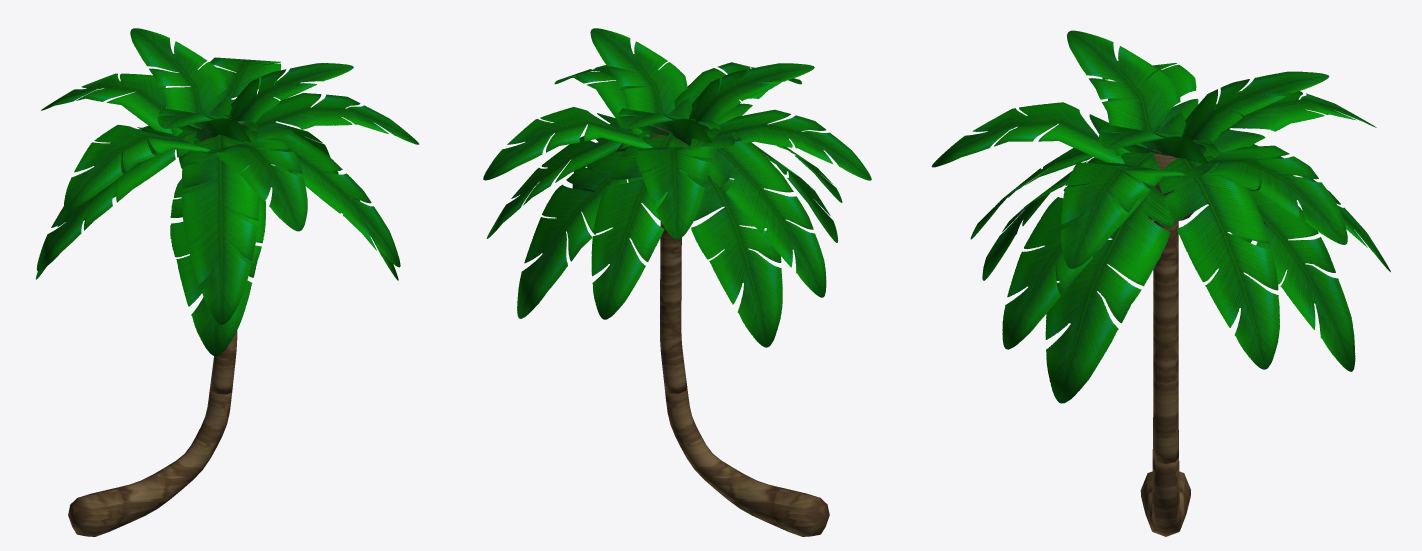
The model's file is PR_Palm_Curve_1.fbx.
The picture shows the model from 3 angles, left to right: view 1: azimuth 30°, elevation 25°; view 2: azimuth 150°, elevation 25°; view 3: azimuth 270°, elevation 25°; orthographic projection. The views are drawn at different scales.
Parts seen in each view (by area): view 1: Palm Leaf.024, Palm Leaf.023, Palm Leaf.021, Plane.015, Palm Leaf.022, Plane.011; view 2: Palm Leaf.024, Palm Leaf.023, Palm Leaf.022, Palm Leaf.021, Plane.015, Plane.011; view 3: Palm Leaf.023, Palm Leaf.024, Palm Leaf.022, Palm Leaf.021, Plane.011, Plane.015.
Boxes of the visible parts, x1,y1,x2,y2 form: Palm Leaf.024: (36, 112, 400, 324); Palm Leaf.023: (41, 57, 419, 231); Palm Leaf.021: (130, 28, 353, 168); Plane.015: (68, 388, 231, 536); Palm Leaf.022: (35, 148, 398, 356); Plane.011: (210, 331, 237, 394); Palm Leaf.024: (486, 114, 842, 319); Palm Leaf.023: (483, 62, 871, 239); Palm Leaf.022: (517, 139, 838, 347); Palm Leaf.021: (590, 28, 814, 145); Plane.015: (665, 388, 829, 536); Plane.011: (660, 221, 687, 393); Palm Leaf.023: (931, 63, 1376, 268); Palm Leaf.024: (970, 130, 1390, 369); Palm Leaf.022: (982, 158, 1355, 403); Palm Leaf.021: (1067, 30, 1329, 172); Plane.011: (1152, 220, 1178, 463); Plane.015: (1140, 457, 1190, 536).
Bounding box in the file's own units: 1627 × 1814 × 1592.
